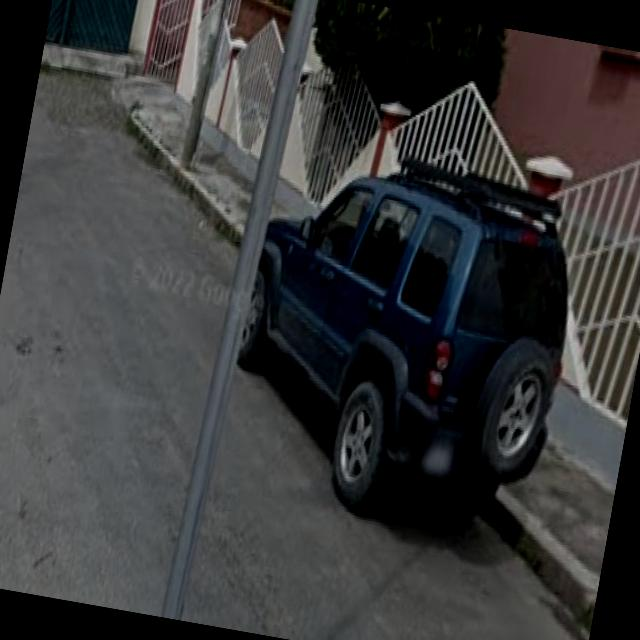car: (221, 80, 606, 544)
